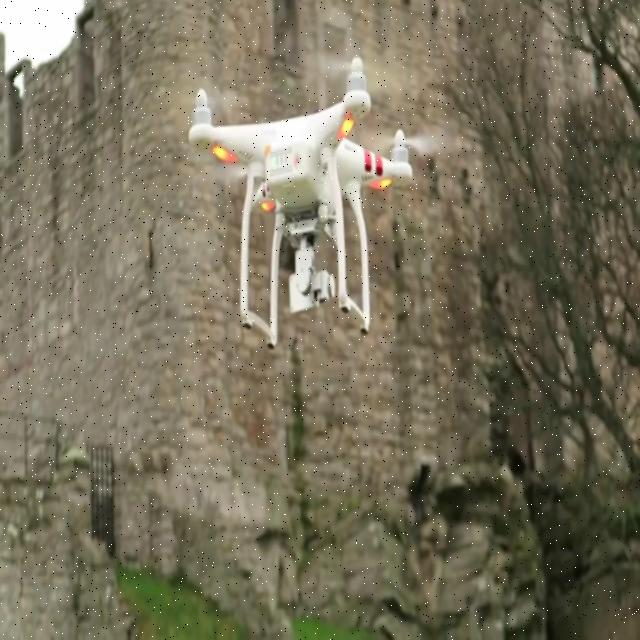UAV: (186, 52, 420, 352)
